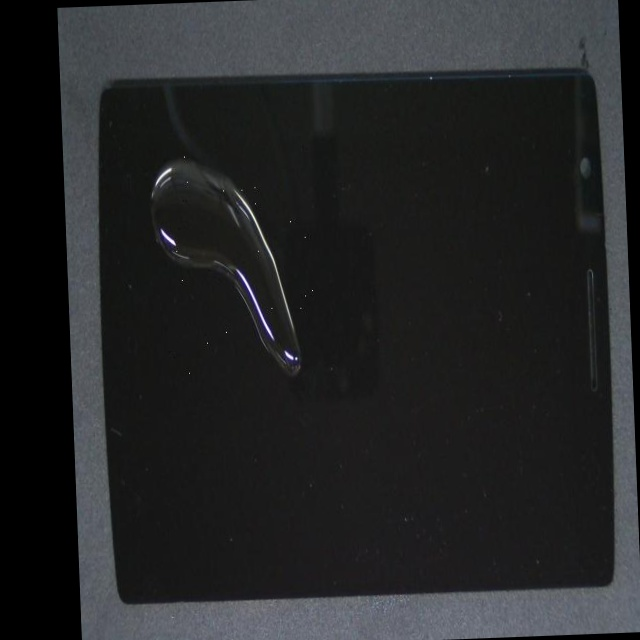oil: (157, 97, 298, 250)
